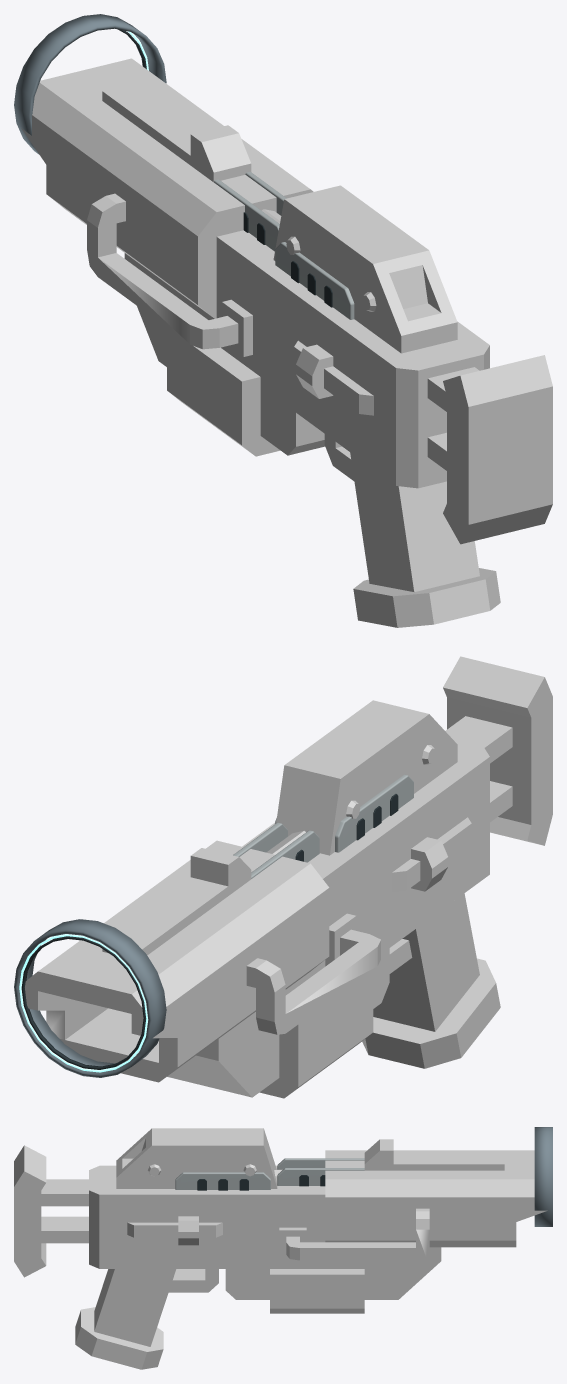
Rendered from blaster-g-mk3.glb.
3 renders of one model, top to bottom at view 1: azimuth 30°, elevation 25°; view 2: azimuth 150°, elevation 25°; view 3: azimuth 270°, elevation 25°, orthographic. The views are drawn at different scales.
Visible parts, largest first — view 1: Pink War MKIII / BLOOM; view 2: Pink War MKIII / BLOOM; view 3: Pink War MKIII / BLOOM.
Part boxes in pixels (bbox=[...]): Pink War MKIII / BLOOM: bbox=[14, 14, 552, 627]; Pink War MKIII / BLOOM: bbox=[14, 656, 552, 1098]; Pink War MKIII / BLOOM: bbox=[14, 1127, 552, 1369].
Size of the model in its own units: 0.2 by 0.3664 by 0.7894.
